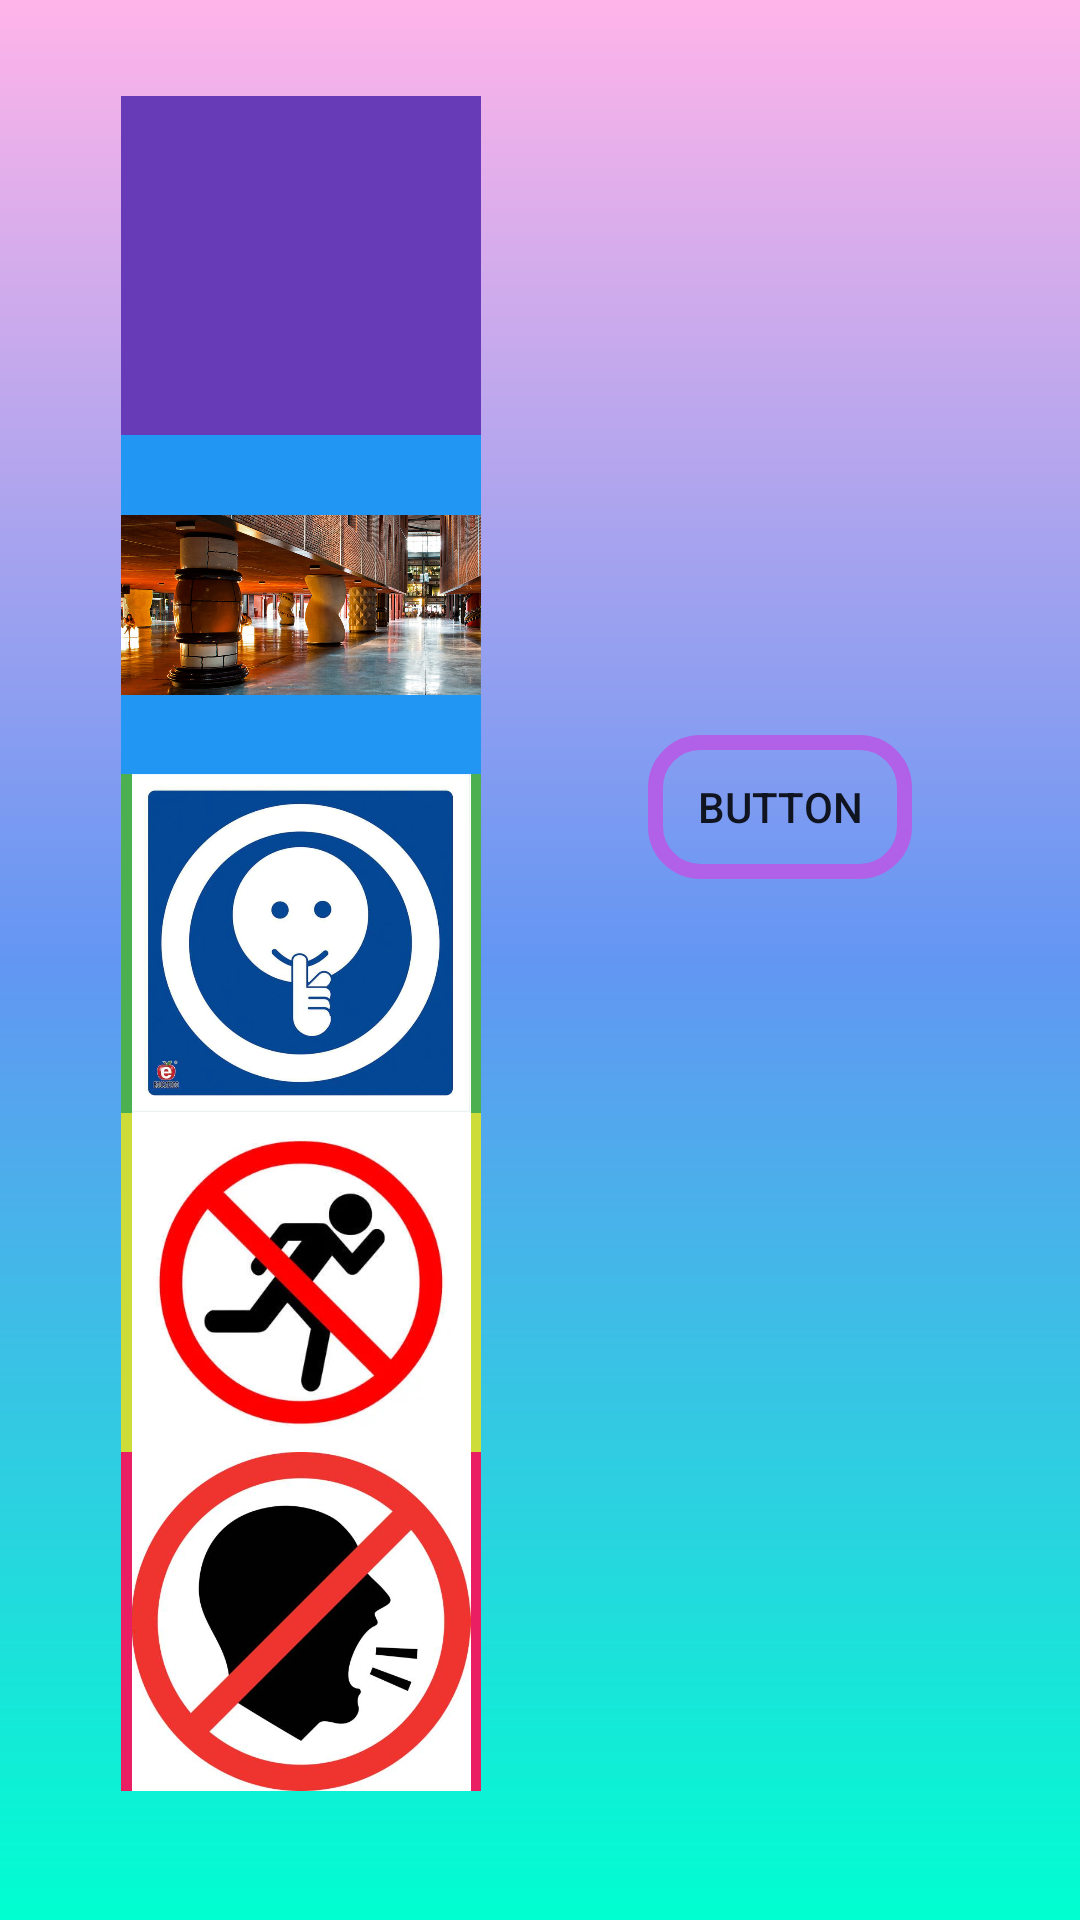

Named icons in this screenshot (1080×1920) and their centers, (x,y):
azkunacolumnas: (301,604)
isiltasuna: (301,943)
nocorrer: (301,1282)
nogritar: (301,1621)
